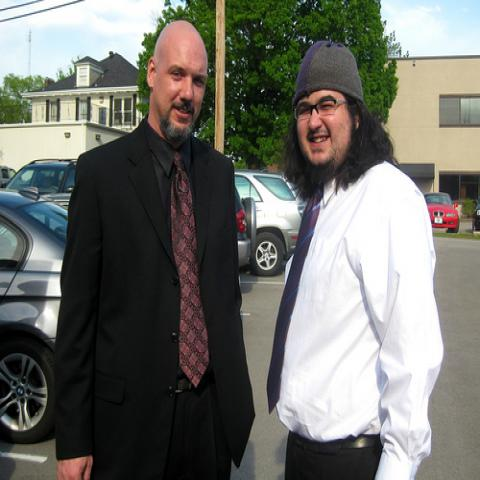car: (7, 158, 256, 272), (0, 188, 69, 447), (235, 172, 308, 278), (423, 193, 460, 233)
